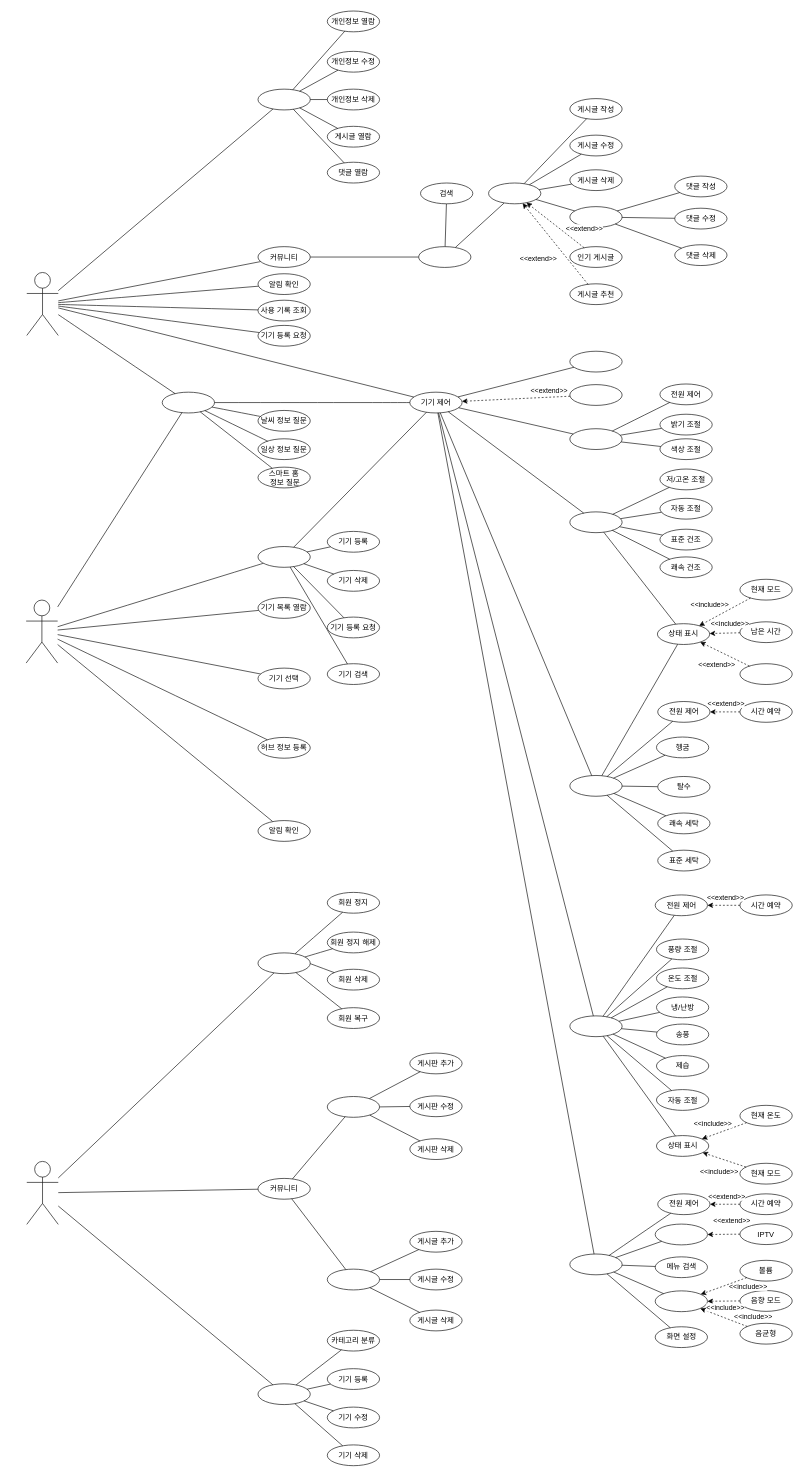
Image size: 803x1477. Some labels were removed from this diagram. The shapes that lost their labels are listed below. From the top down, each one's box as (x1, y1, x2, y2) in pixels, then its label:
(257, 89, 310, 110): 마이페이지
(488, 182, 541, 204): 게시글
(569, 206, 622, 227): 댓글
(418, 246, 471, 267): 게시판
(26, 272, 58, 335): 앱 사용자
(569, 351, 622, 372): 버튼 제어
(162, 392, 215, 413): 개인비서
(569, 384, 622, 405): 음성 제어
(569, 428, 622, 450): 조명
(569, 511, 622, 533): 건조기
(257, 546, 310, 567): 기기 관리
(26, 599, 58, 663): 허브 사용자
(739, 663, 792, 684): 에러 코드
(569, 775, 622, 796): 세탁기
(257, 952, 310, 974): 회원 관리
(569, 1015, 622, 1037): 에어컨
(327, 1096, 380, 1117): 게시판 관리
(26, 1161, 58, 1224): 관리자
(655, 1223, 707, 1245): 채널 변경
(327, 1269, 380, 1290): 게시글 관리
(569, 1253, 622, 1275): TV
(655, 1290, 707, 1312): 소리 설정
(257, 1383, 310, 1405): 기기관리
